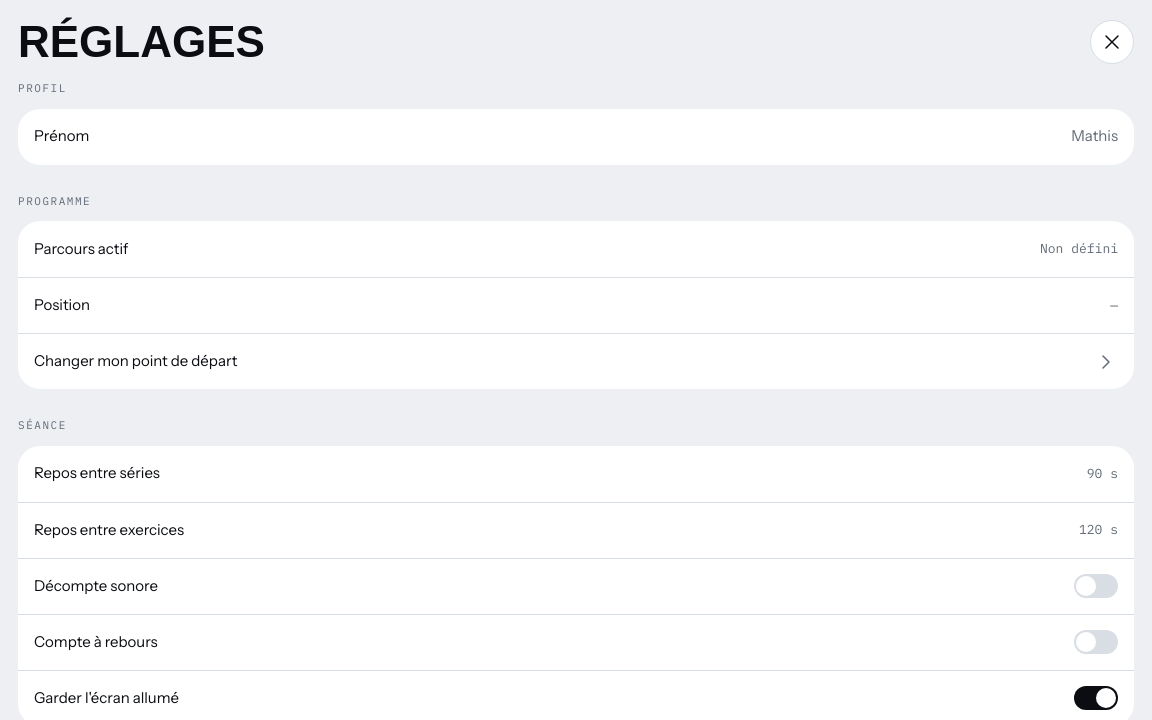
ReglagesScreen › shows the error state when a settings update fails
expect the text "Garder l'écran allumé" is shown: met, box [34,687,179,709]
Click the switch named "Garder l'écran allumé": click(1096, 698) [1074,676,1118,719]
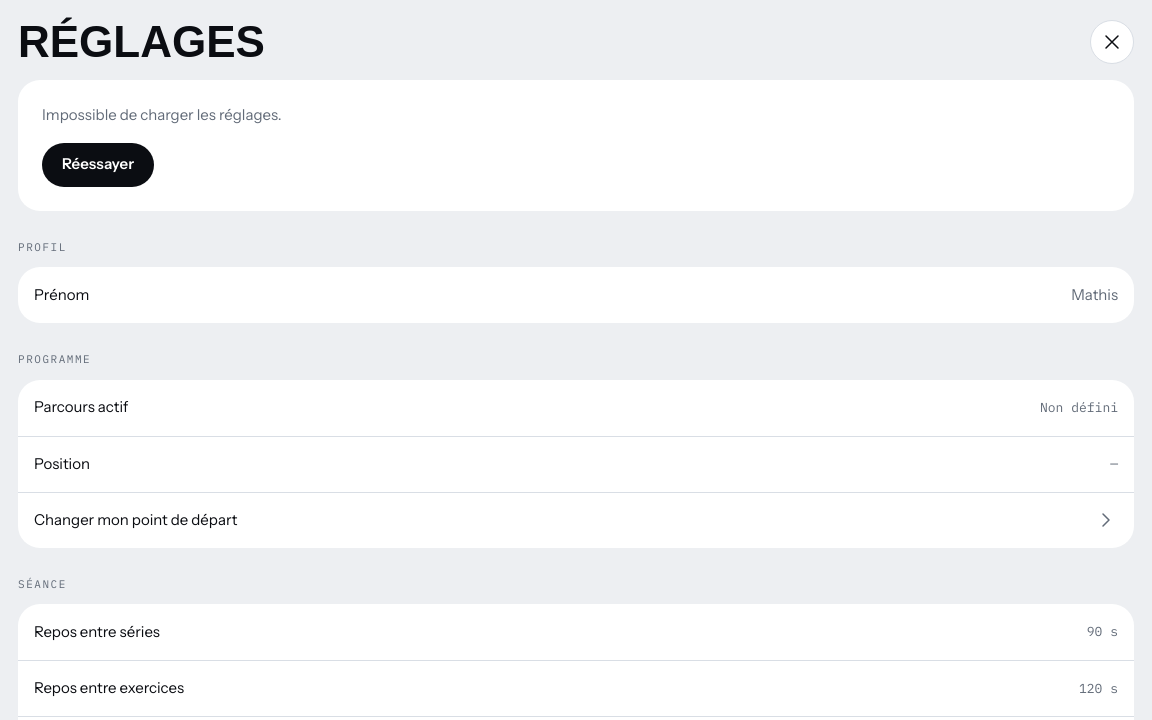
expect the text "Impossible de charger les réglages." is shown: met, box [42,105,282,124]
